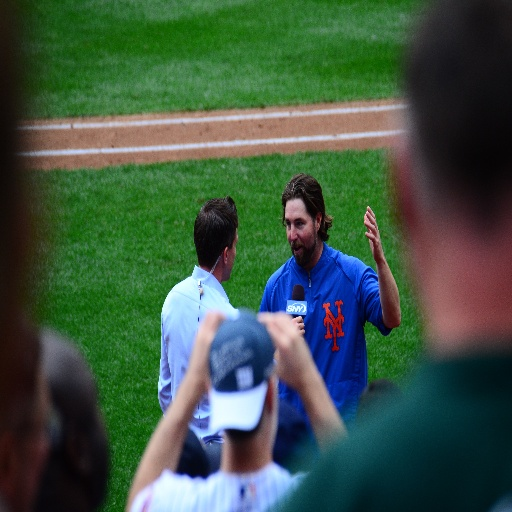hand: (264, 315, 308, 387), (188, 307, 226, 390), (361, 204, 383, 265), (292, 314, 304, 336)
